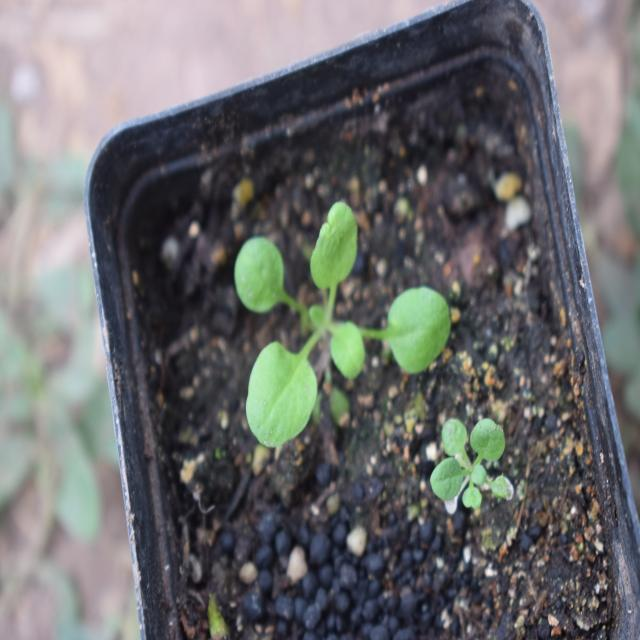Shepherd_Purse: (213, 190, 454, 436)
